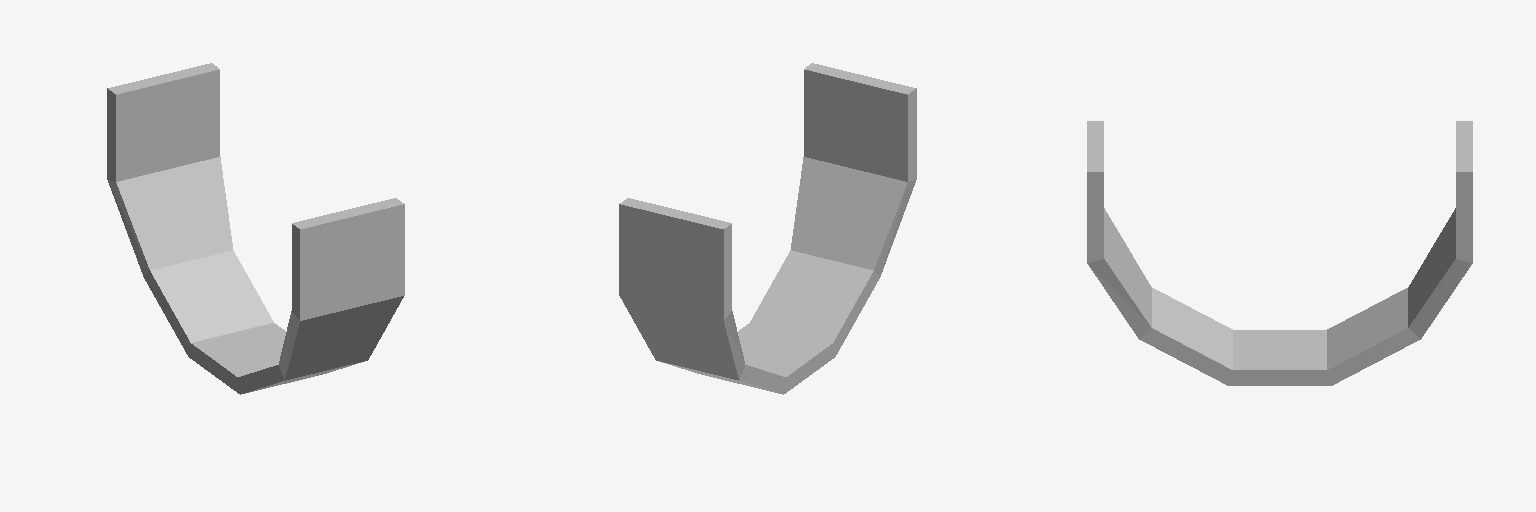
File: portal_bridge_piece.obj
3 renders of one model, left to right at view 1: azimuth 30°, elevation 25°; view 2: azimuth 150°, elevation 25°; view 3: azimuth 270°, elevation 25°, orthographic.
Visible parts, largest first — view 1: tube; view 2: tube; view 3: tube.
Boxes of the visible parts, x1,y1,x2,y2 form: tube: [107, 63, 404, 394]; tube: [619, 63, 916, 394]; tube: [1087, 121, 1472, 385].
Bounding box in the file's own units: 0.625 × 1.26 × 2.